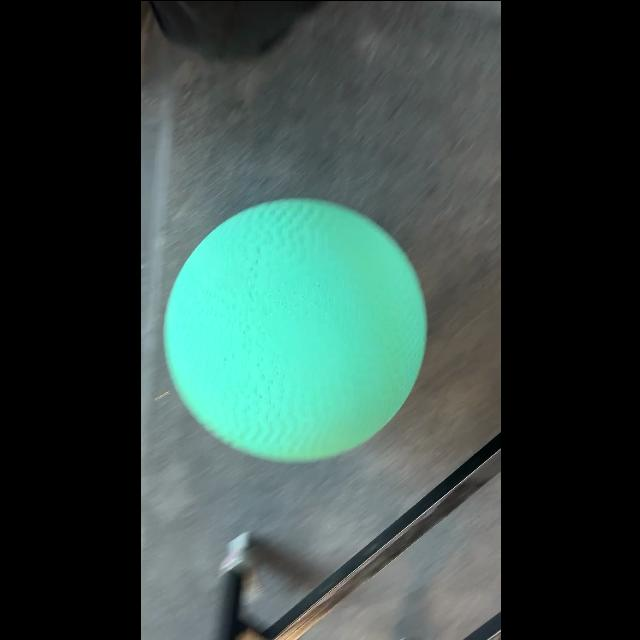ALGAE: (161, 196, 427, 464)
